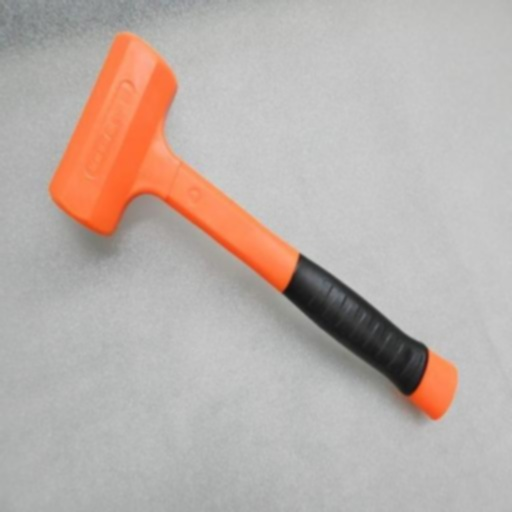mallet: (48, 33, 458, 419)
